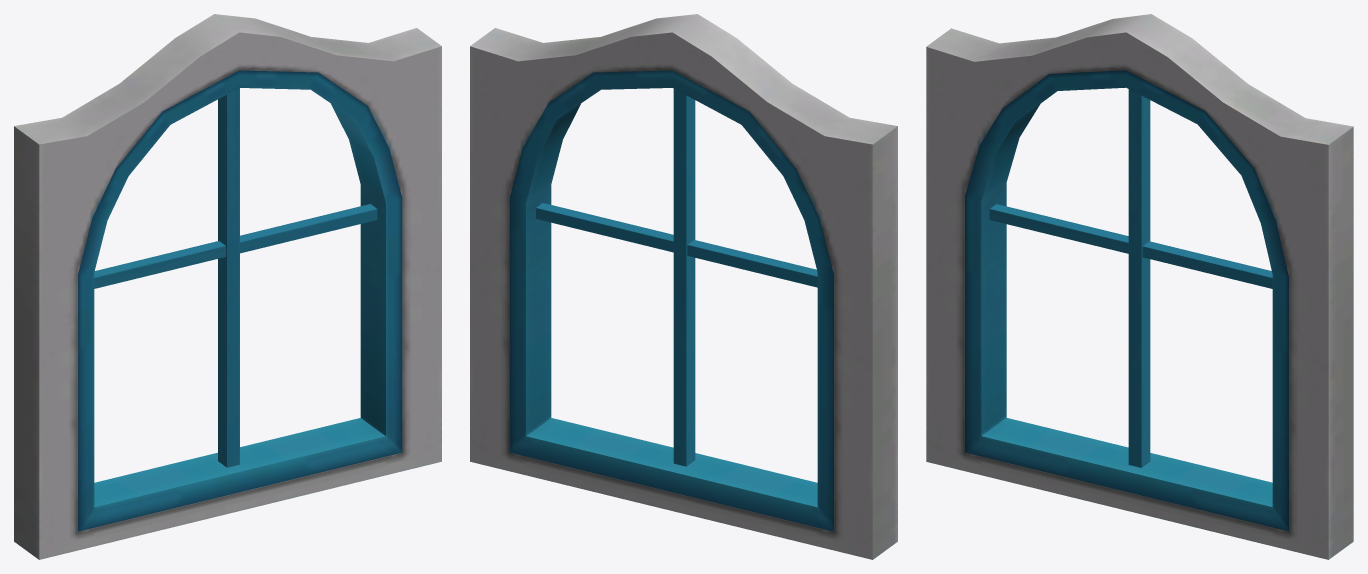
The model's file is furni_0200047_01.FBX.
The picture shows the model from 3 angles, left to right: view 1: azimuth 30°, elevation 25°; view 2: azimuth 150°, elevation 25°; view 3: azimuth 330°, elevation 25°; orthographic projection.
Parts seen in each view (by area): view 1: furni_0200047; view 2: furni_0200047; view 3: furni_0200047.
Part boxes in pixels (bbox=[...]): furni_0200047: bbox=[14, 14, 441, 559]; furni_0200047: bbox=[470, 14, 897, 559]; furni_0200047: bbox=[926, 14, 1353, 559].
Size of the model in its own units: 192 by 218 by 20.79.
